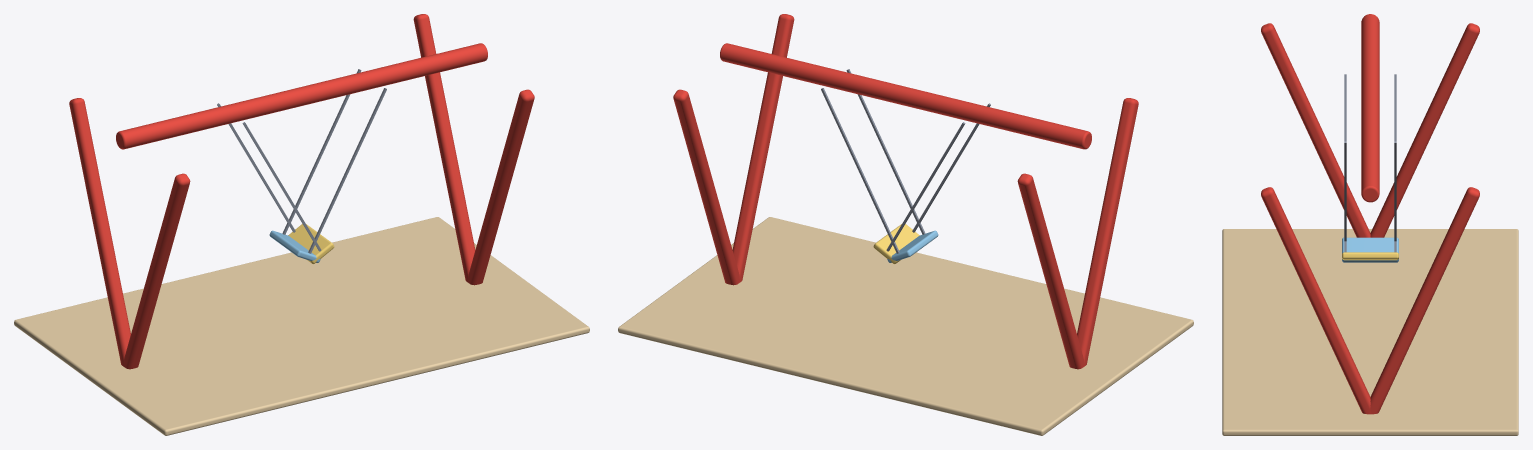
Rendered from swing.glb.
3 renders of one model, left to right at view 1: azimuth 30°, elevation 25°; view 2: azimuth 150°, elevation 25°; view 3: azimuth 270°, elevation 25°, orthographic. The views are drawn at different scales.
Visible parts, largest first — view 1: swing.001, seat1.007, seat0.005; view 2: swing.001, seat1.007, seat0.005; view 3: swing.001, seat1.007, seat0.005.
Boxes of the visible parts, bbox=[...] form: swing.001: bbox=[14, 14, 589, 435]; seat1.007: bbox=[269, 69, 386, 262]; seat0.005: bbox=[217, 103, 334, 264]; swing.001: bbox=[618, 14, 1193, 435]; seat1.007: bbox=[821, 69, 938, 262]; seat0.005: bbox=[873, 103, 990, 264]; swing.001: bbox=[1222, 14, 1518, 435]; seat1.007: bbox=[1342, 141, 1398, 262]; seat0.005: bbox=[1342, 74, 1398, 260].
Bounding box in the file's own units: 4.2 × 2.3 × 2.6.
1 material, 1 textured.
